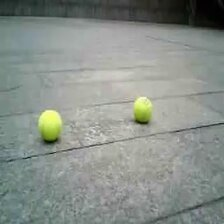tennis: (37, 111, 63, 142), (135, 96, 151, 123)
